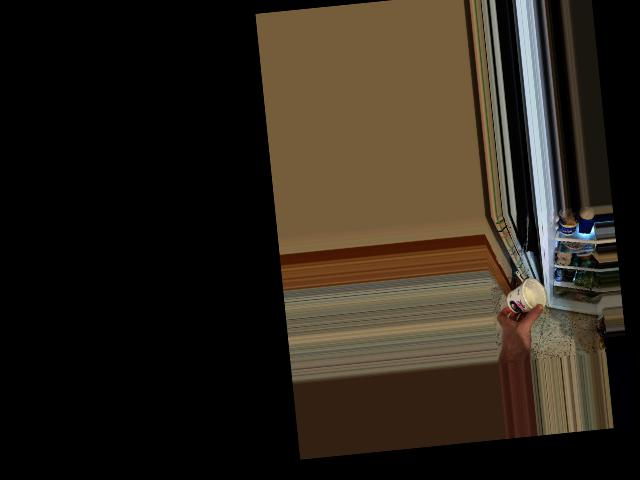cotage: (508, 275, 542, 313)
